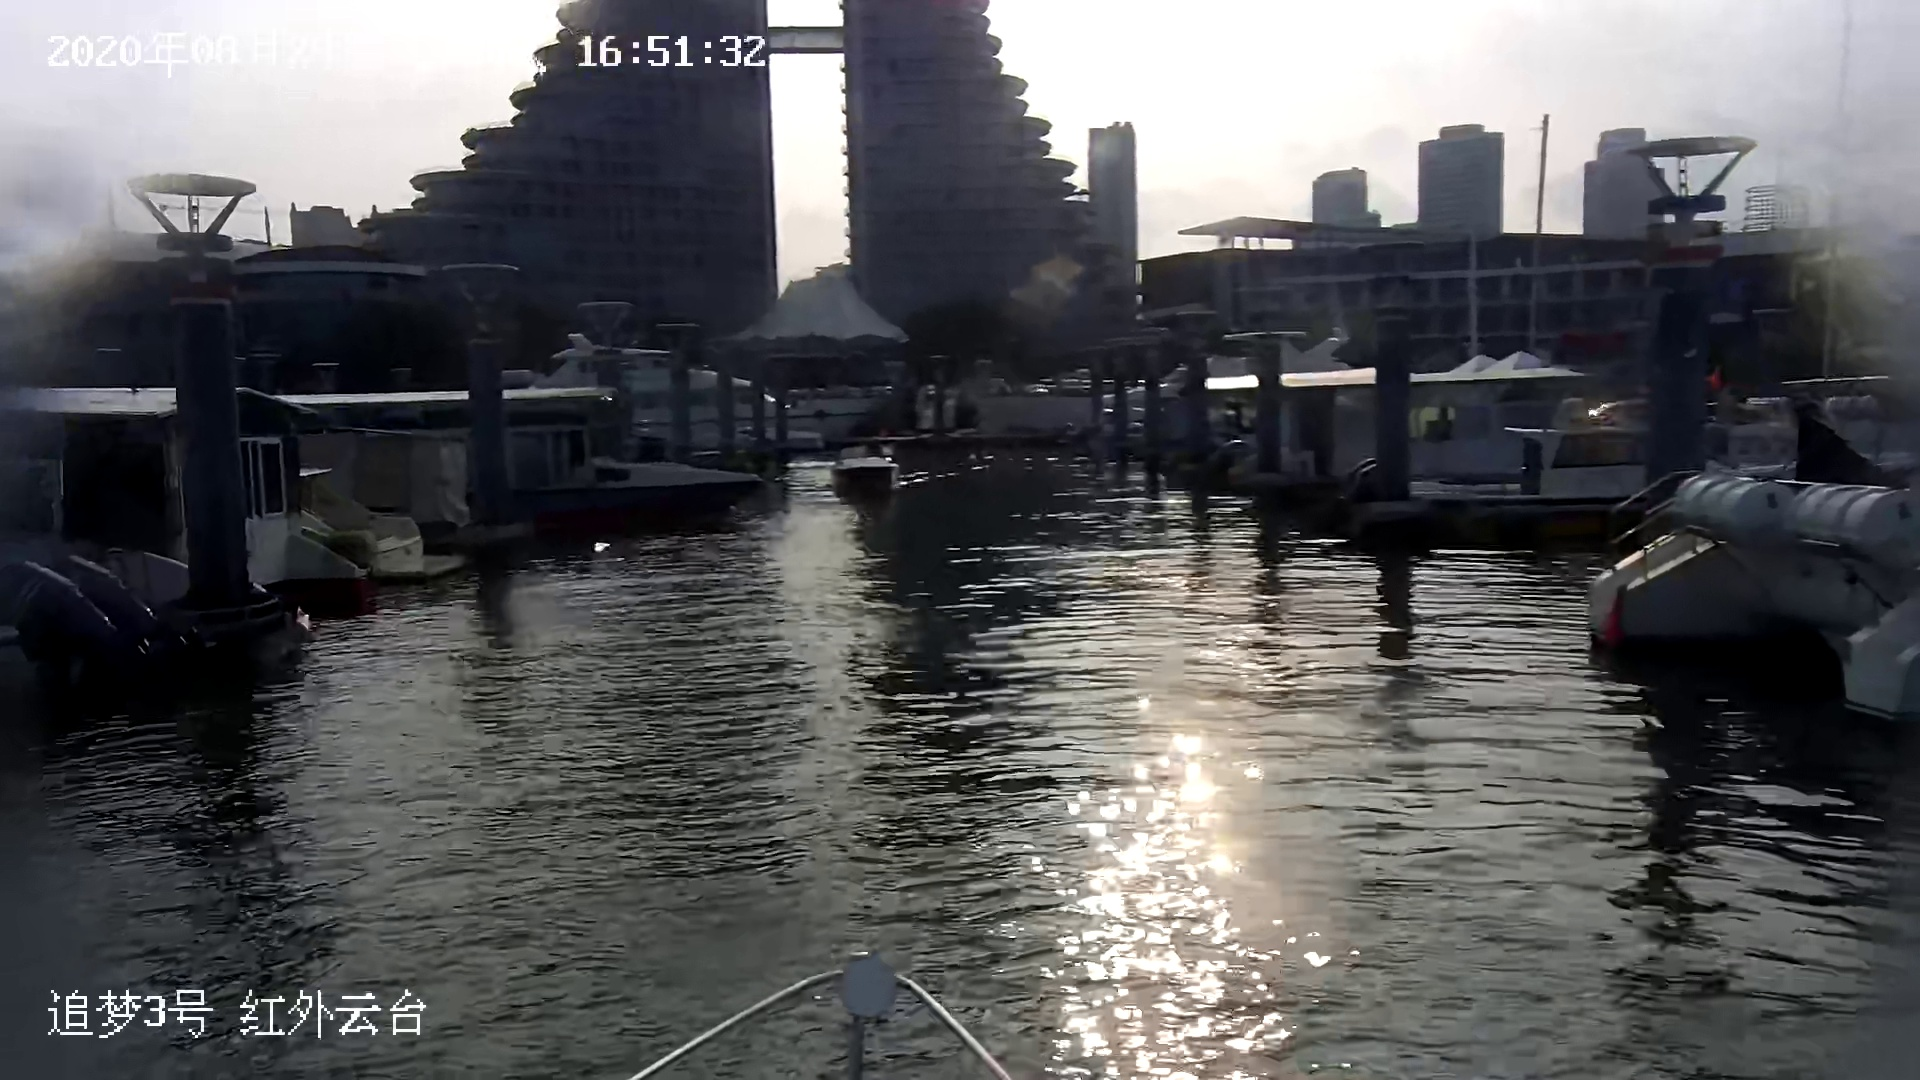coast: (26, 1, 1920, 712)
